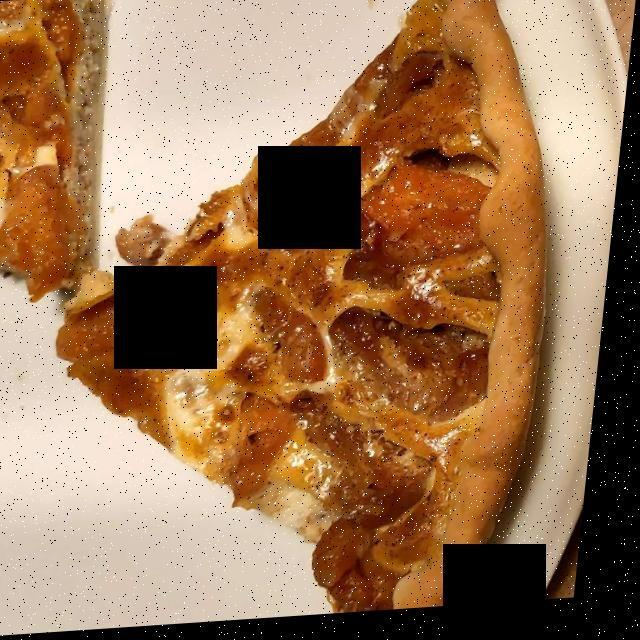pie: (73, 0, 539, 608)
